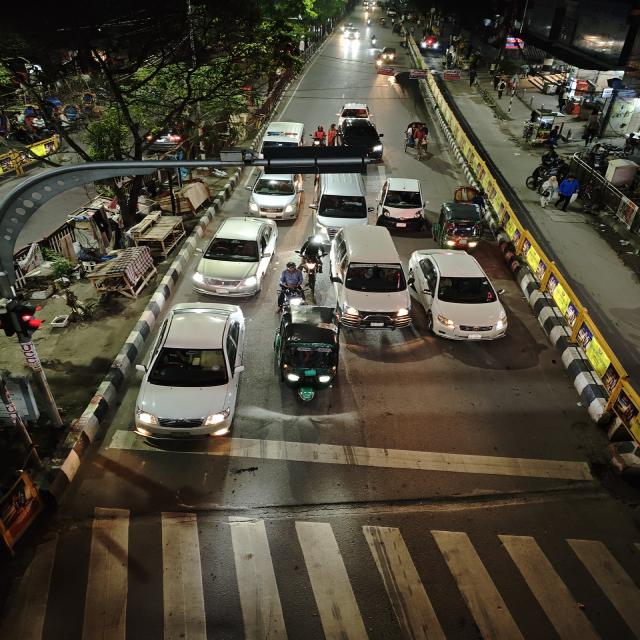car: (134, 301, 250, 443), (410, 248, 509, 344), (328, 222, 412, 332), (191, 214, 281, 298), (310, 177, 369, 230), (246, 175, 306, 219), (378, 175, 427, 227), (340, 117, 384, 159), (261, 119, 306, 151), (337, 104, 372, 122), (342, 26, 364, 43)
cng: (274, 319, 342, 399), (435, 200, 483, 250), (379, 46, 397, 62)
motorcycle: (276, 260, 308, 328), (290, 236, 328, 290), (310, 125, 329, 148), (369, 34, 379, 48)
pedestrian: (556, 174, 582, 212), (538, 173, 558, 207), (466, 68, 480, 88)
rickshaw: (402, 120, 436, 163)
